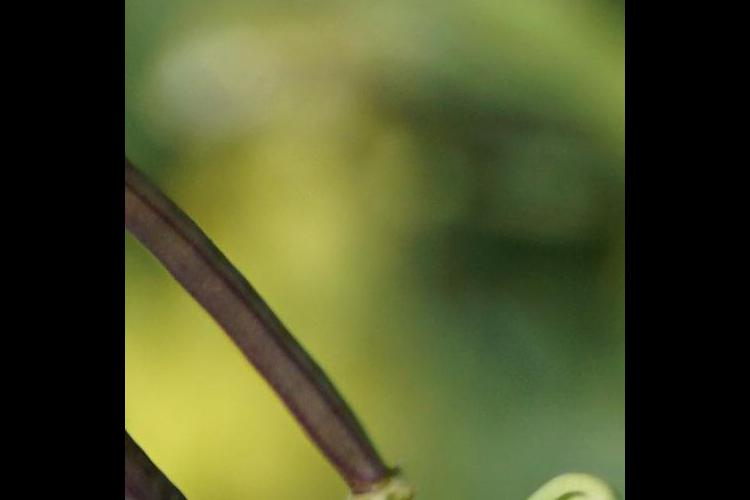pod: (129, 157, 421, 500), (129, 423, 282, 500)
